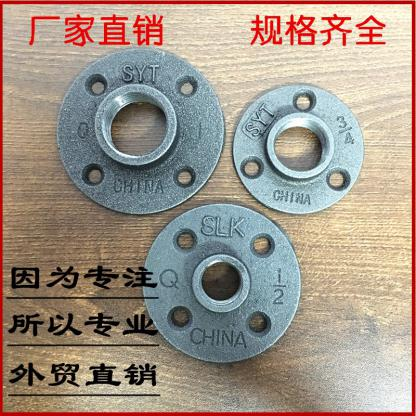FOD: (54, 44, 228, 218), (140, 199, 304, 368), (231, 80, 366, 218)
